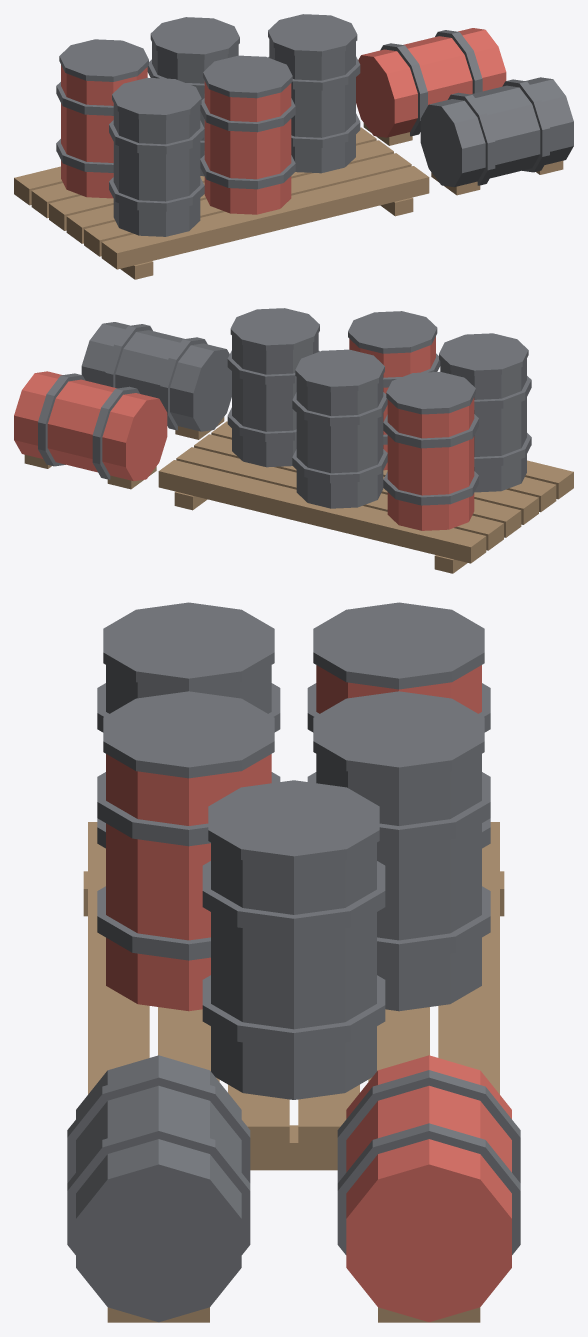
The model's file is lighthouse-and-rocky-coast-oil-drum-store-042fbfaf__36604.glb.
3 views of the same model, one above another, from view 1: azimuth 30°, elevation 25°; view 2: azimuth 150°, elevation 25°; view 3: azimuth 270°, elevation 25° (orthographic). The views are drawn at different scales.
Parts seen in each view (by area): view 1: oil-drum-store; view 2: oil-drum-store; view 3: oil-drum-store.
Part boxes in pixels (bbox=[...]): oil-drum-store: bbox=[14, 14, 573, 279]; oil-drum-store: bbox=[14, 308, 573, 573]; oil-drum-store: bbox=[67, 602, 520, 1322].
Bounding box in the file's own units: 3.49 × 1.14 × 1.51.
